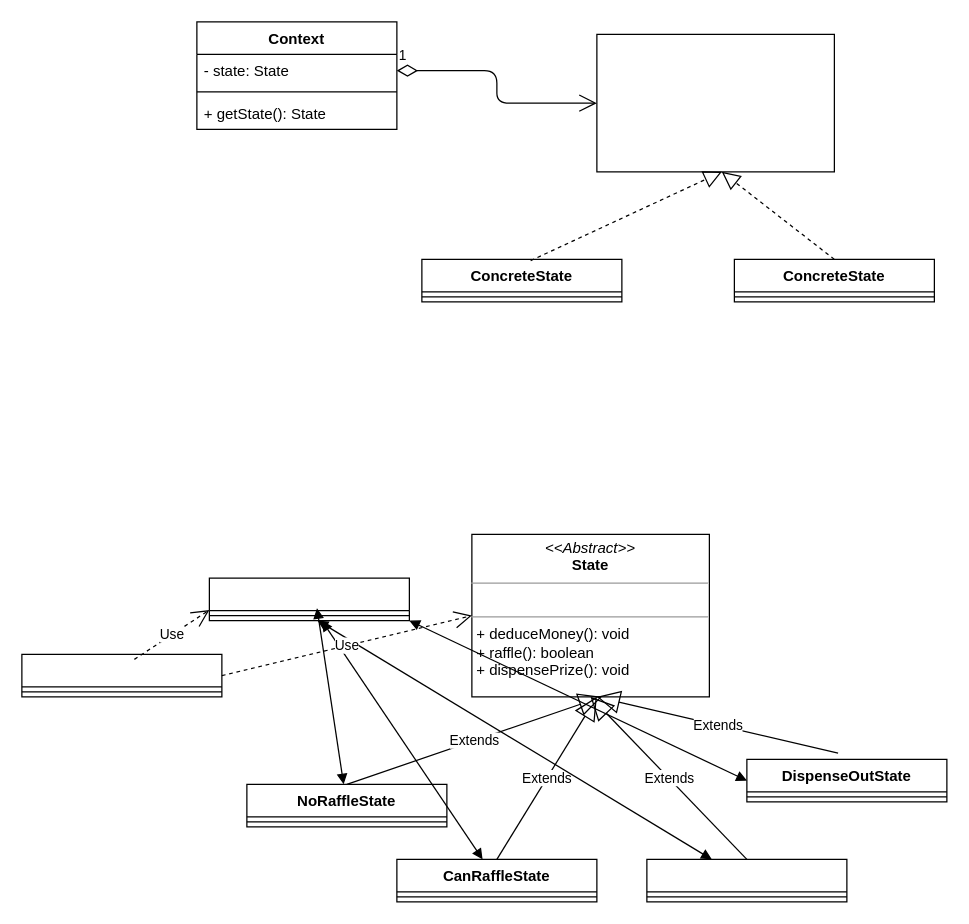
Some shapes in this 969 by 924 pixel diagram are drawn without their labels. The shapes that lost their labels are listed below. From the top down, each one's centre as x and y in pixels, then its label:
At point 715,102: "<<Interface>> State + method1(Type): Type + method2(Type, Type): Type".
At point 308,599: "Activity".
At point 121,675: "Client".
At point 746,880: "DispenseState".
